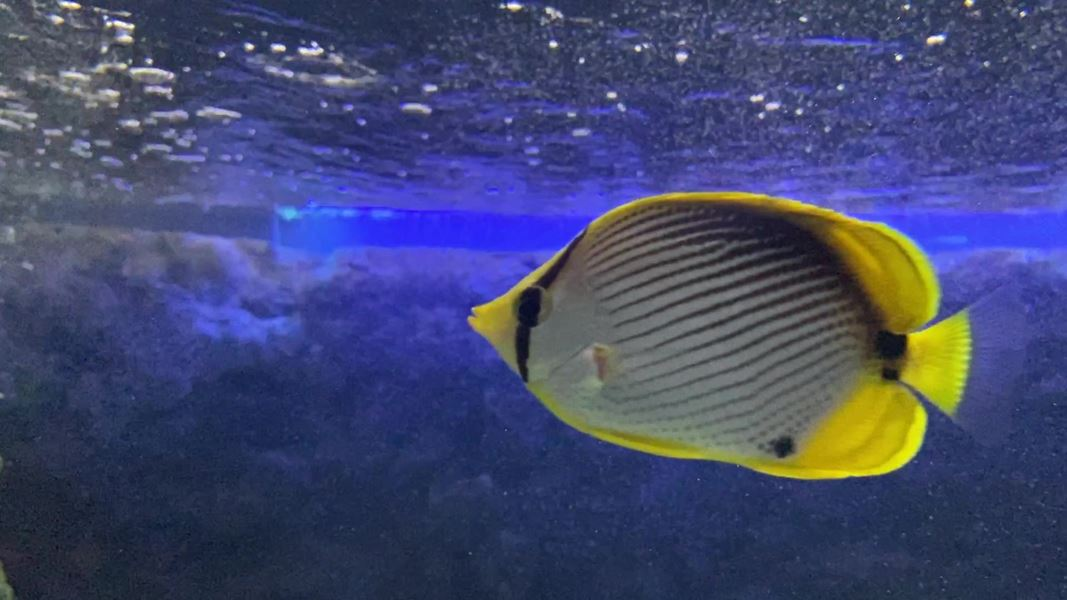Black-backed butterflyfish: (456, 177, 1045, 493)
